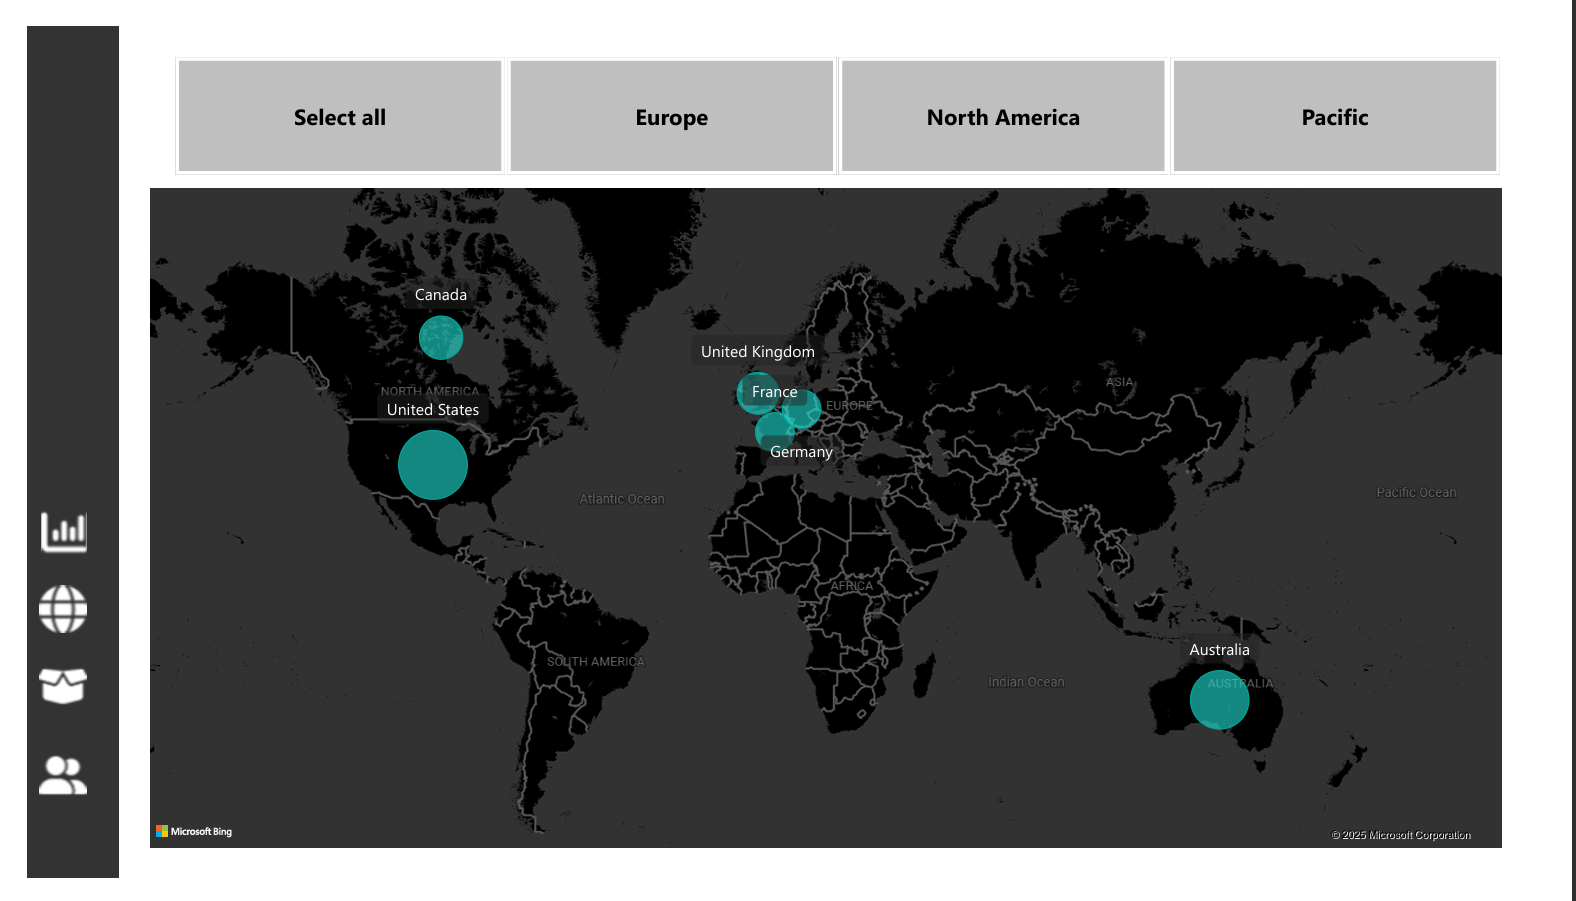

The page's visual inventory and layout, read from the dashboard file:
{"tool":"powerbi","page":{"name":"Map","canvas":[1280,720],"ordinal":1},"visuals":[{"type":"shape","box":[0,0,77.1,718.8],"z":0},{"type":"actionButton","box":[5.9,466,47.6,51.5],"z":1000,"group":"g1"},{"type":"map","fields":{"Category":["Territory Lookup.Country"],"Size":["Measure Table.Total Orders"]},"box":[99.1,132.2,1151.1,567.3],"z":1000},{"type":"slicer","fields":{"Values":["Territory Lookup.Continent"]},"box":[99.1,19.3,1167.6,112.9],"z":2000},{"type":"actionButton","box":[5.9,608.7,53.5,47.6],"z":2000,"group":"g1"},{"type":"actionButton","box":[5.9,533.4,53.5,47.6],"z":3000,"group":"g1"},{"type":"group","id":"g1","title":"Navigation Buttons","box":[5.9,397.4,53.5,258.9],"z":3000},{"type":"actionButton","box":[7.8,397.4,45.6,59.5],"z":5000,"group":"g1"}]}

Visuals, with their boxes on the page's 1280x720 design canvas (x1, y1, x2, y2). These are canvas units, not pixel positions in the 1576x901 screenshot, which may show the page scaled, cropped or inside an application window:
shape: rect(0, 0, 77, 719)
actionButton: rect(6, 466, 54, 518)
map - Territory Lookup.Country x Measure Table.Total Orders: rect(99, 132, 1250, 700)
slicer - Territory Lookup.Continent: rect(99, 19, 1267, 132)
actionButton: rect(6, 609, 59, 656)
actionButton: rect(6, 533, 59, 581)
"Navigation Buttons" group: rect(6, 397, 59, 656)
actionButton: rect(8, 397, 53, 457)
